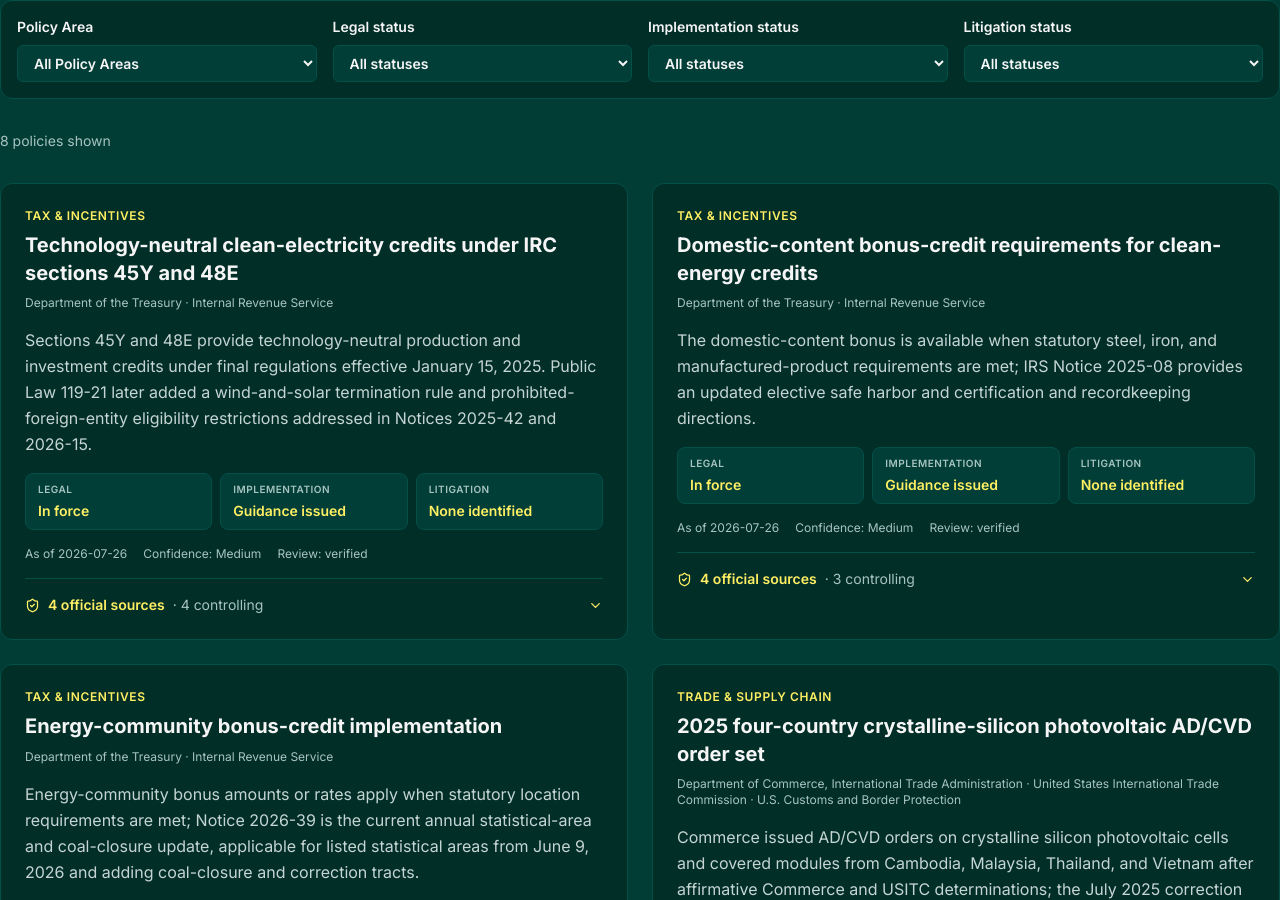
Test case: PolicyExplorer › shows four accessible filters and a clear empty result
The image size is (1280, 900).
Select "Offshore Wind" in the dropdown labelled "Policy Area": (167, 64) x1=17 y1=45 x2=316 y2=82
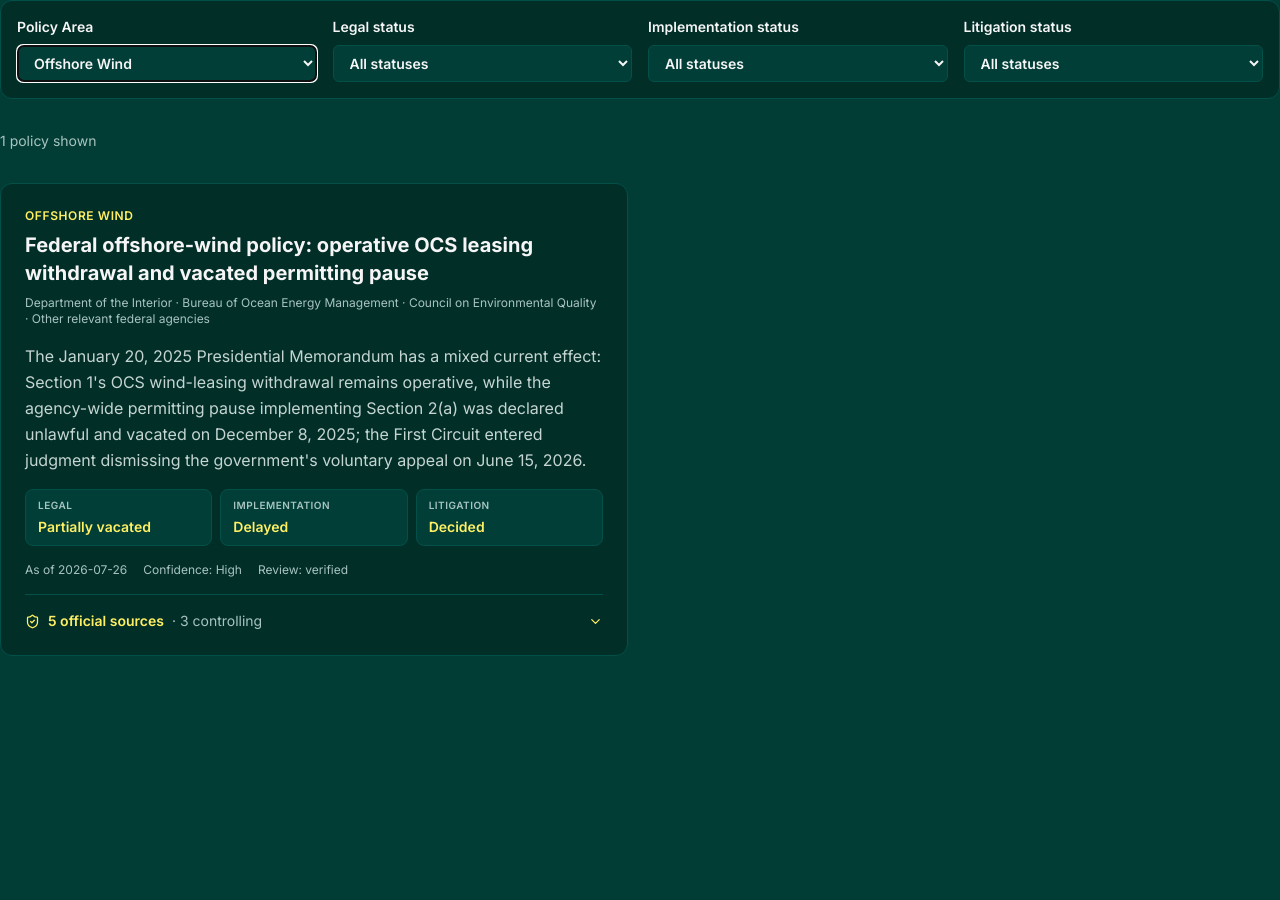
Select "In force" in the dropdown labelled "Legal status": (482, 64) x1=332 y1=45 x2=632 y2=82
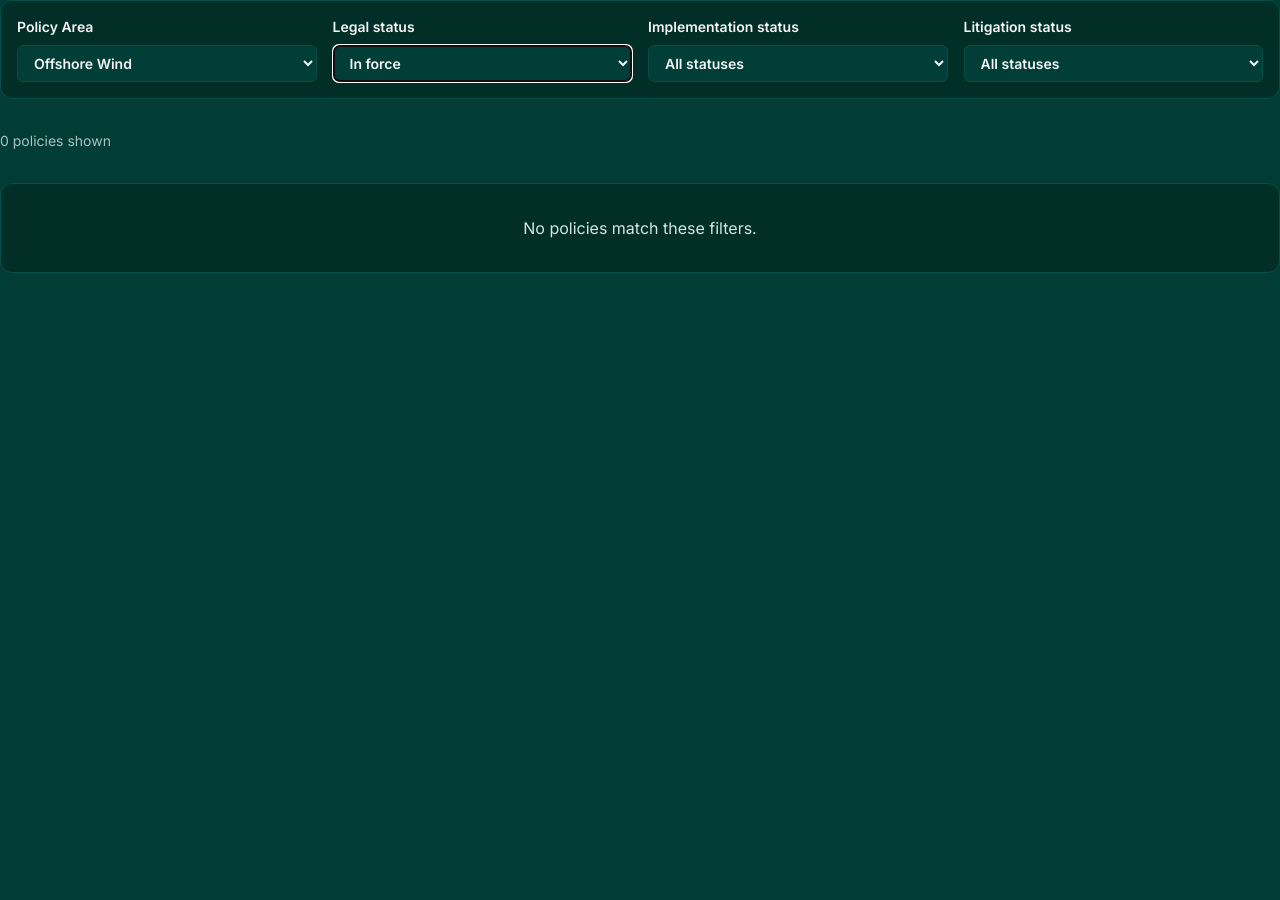
expect the text "No policies match these filters." is shown: met, box x1=0 y1=183 x2=1279 y2=273
